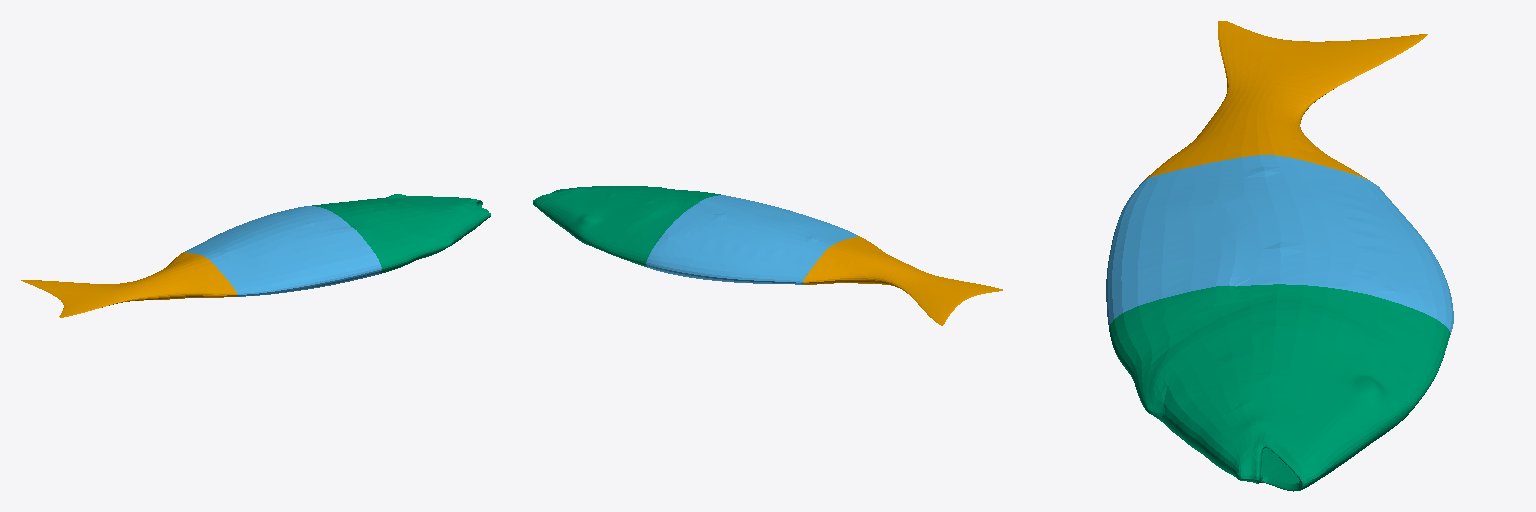
robot.urdf — fish:
<?xml version="1.0" ?>
<robot name="fish" xmlns:xacro="http://www.ros.org/wiki/xacro">
<!-- All links coordinates are initially all at origin O. The fish model in Blender should 
be aligned at World origin and links are saved separately as stl. -->
  <link name="p1">
    <visual>
      <origin rpy="0 0 0" xyz="0 0 0"/>
      <geometry>
        <mesh filename="package://fine-fish/fish3p1.stl"/>
      </geometry>
    </visual>
    <collision>
      <origin rpy="0 0 0" xyz="0 0 0"/>
      <geometry>
        <mesh filename="package://fine-fish/fish3p1.stl"/>
      </geometry>
    </collision>
  </link>

  <!-- Displayed in utils function axiscreator. -->
  <joint name="joint1" type="revolute">
    <parent link="p1"/>
    <child link="p2"/>
    <!-- P1_O: The xyz below is the position of joint1 (P1) in O frame. -->
    <origin rpy="0 0 0" xyz="-0.74 0 0"/> 
    <axis xyz="0 1 0"/>
    <limit effort="20" lower="-1.5" upper="1.5" velocity="0.2"/>
  </joint>

  <link name="p2">
    <visual>
      <!-- -P1_O : The xyz below is -P1_O, making link2 (p2) go back to the initially aligned position. -->
      <origin rpy="0 0 0" xyz="0.74 0 -0.0"/>
      <geometry>
        <mesh filename="package://fine-fish/fish3p2.stl"/>
      </geometry>
    </visual>
    <collision>
      <origin rpy="0 0 0" xyz="0.74 0 -0.0"/>
      <geometry>
        <mesh filename="package://fine-fish/fish3p2.stl"/>
      </geometry>
    </collision>
  </link>

  <!-- values in the frame of O1. -->
  <joint name="joint2" type="revolute">
    <parent link="p2"/>
    <child link="p3"/>
    <!-- P2_O1: The xyz below is the position of joint2 (P2) in O1. -->
    <origin rpy="0 0 0" xyz="1.5 0 0"/>
    <axis xyz="0 1 0"/>
    <limit effort="20" lower="-1.5" upper="1.5" velocity="0.2"/>
  </joint>

  <link name="p3">
    <visual>
    <!-- -P2_O = -(P1_O + P2_O1) : The xyz below is the minus of P2 in O. -->
      <origin rpy="0 0 0" xyz="-0.76 0 -0.0"/>
      <geometry>
        <mesh filename="package://fine-fish/fish3p3.stl"/>
      </geometry>
    </visual>
    <collision>
      <origin rpy="0 0 0" xyz="-0.76 0 -0.0"/>
      <geometry>
        <mesh filename="package://fine-fish/fish3p3.stl"/>
      </geometry>
    </collision>
  </link>
</robot>

--- Facts derived from the render (not from the file) ---
The picture shows the robot from 3 angles, left to right: view 1: azimuth 30°, elevation 25°; view 2: azimuth 150°, elevation 25°; view 3: azimuth 270°, elevation 25°; orthographic projection.
Model fish with 3 links and 2 joints (2 revolute), rooted at p1, posed every joint at zero.
Visible links, largest first — view 1: p2, p3, p1; view 2: p2, p3, p1; view 3: p3, p2, p1.
Boxes of the visible links, x1,y1,x2,y2 form: p2: (183, 206, 381, 296); p3: (312, 194, 490, 273); p1: (21, 252, 236, 317); p2: (646, 195, 857, 284); p3: (533, 186, 720, 267); p1: (803, 236, 1002, 325); p3: (1109, 284, 1450, 491); p2: (1106, 155, 1453, 332); p1: (1144, 21, 1427, 182).
Bounding box of the posed robot: 4.8 × 1.57 × 0.4941 m (x, y, z).
Meshes: 3 distinct files referenced, 3 mesh visuals loaded (3 binary STL).